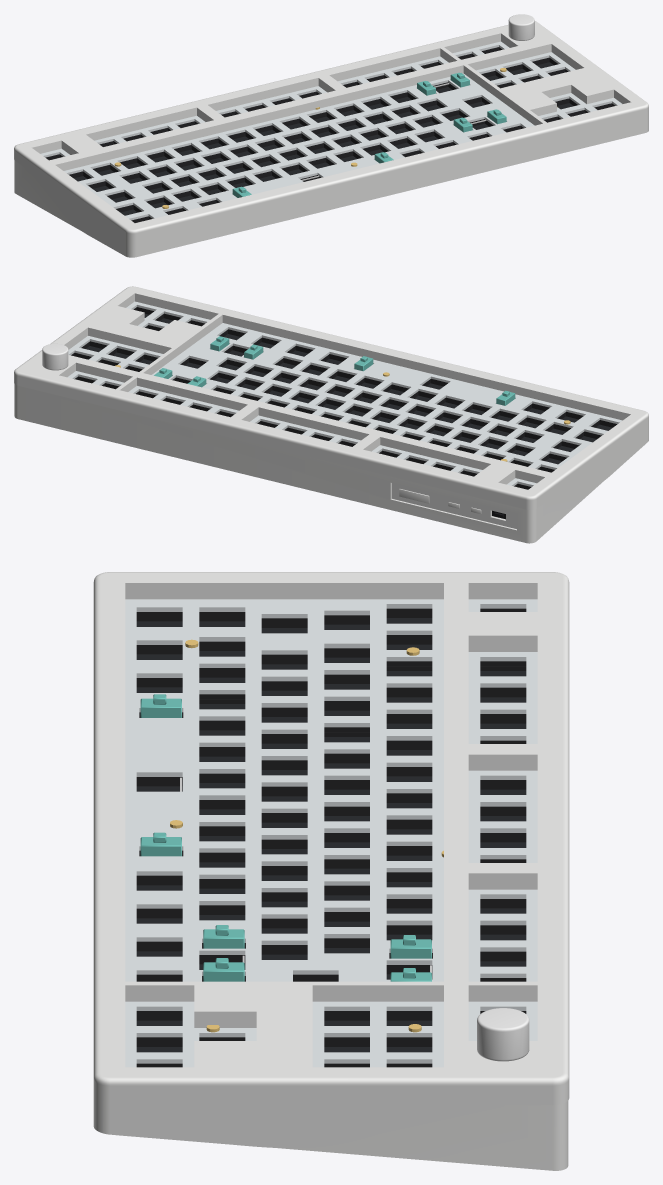
Rendered from tkl-iso.glb.
3 renders of one model, top to bottom at view 1: azimuth 30°, elevation 25°; view 2: azimuth 150°, elevation 25°; view 3: azimuth 270°, elevation 25°, orthographic. The views are drawn at different scales.
Parts seen in each view (by area): view 1: upperLid, plate, plateFoam, pcbFoam, pcb, lowerLid, stabilizers, knob; view 2: upperLid, plate, lowerLid, plateFoam, pcbFoam, pcb, stabilizers, knob, rearLight; view 3: upperLid, plate, plateFoam, pcb, pcbFoam, lowerLid, stabilizers, knob.
Boxes of the visible parts, x1=… form: upperLid: x1=14, y1=21, x2=648, y2=257; plate: x1=40, y1=41, x2=622, y2=220; plateFoam: x1=45, y1=47, x2=614, y2=222; pcbFoam: x1=48, y1=49, x2=612, y2=222; pcb: x1=74, y1=62, x2=573, y2=215; lowerLid: x1=14, y1=160, x2=80, y2=230; stabilizers: x1=232, y1=72, x2=506, y2=197; knob: x1=508, y1=14, x2=534, y2=40; upperLid: x1=14, y1=286, x2=648, y2=509; plate: x1=67, y1=301, x2=622, y2=486; lowerLid: x1=14, y1=384, x2=602, y2=543; plateFoam: x1=71, y1=307, x2=617, y2=488; pcbFoam: x1=73, y1=309, x2=614, y2=489; pcb: x1=86, y1=313, x2=612, y2=464; stabilizers: x1=154, y1=336, x2=515, y2=405; knob: x1=42, y1=343, x2=68, y2=370; rearLight: x1=399, y1=489, x2=481, y2=513; upperLid: x1=93, y1=572, x2=569, y2=1148; plate: x1=125, y1=599, x2=537, y2=1067; plateFoam: x1=136, y1=608, x2=526, y2=1067; pcb: x1=136, y1=618, x2=526, y2=1052; pcbFoam: x1=136, y1=613, x2=526, y2=1046; lowerLid: x1=278, y1=1101, x2=568, y2=1170; stabilizers: x1=140, y1=694, x2=431, y2=981; knob: x1=477, y1=1008, x2=529, y2=1061.
Size of what is drawn, in the model's own units: 36.79 by 4.28 by 14.51.
